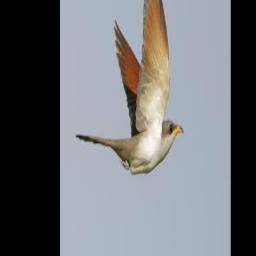Cuckoo: (75, 0, 183, 172)
